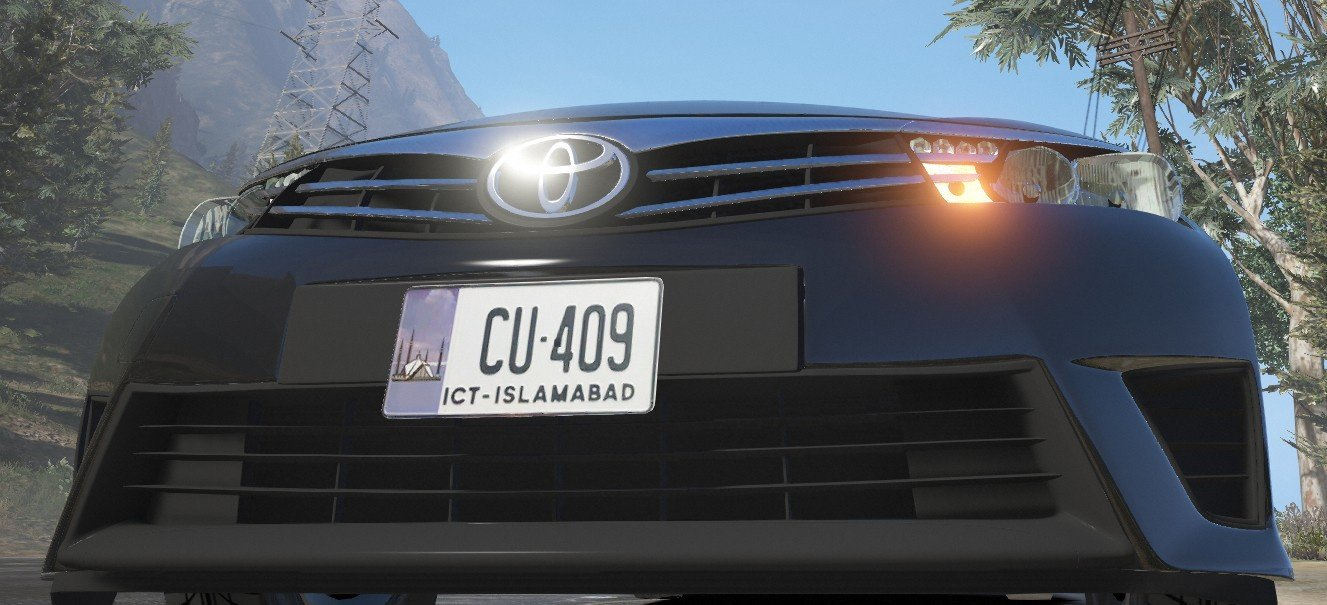Number Plate (Car): (385, 285, 651, 416)
